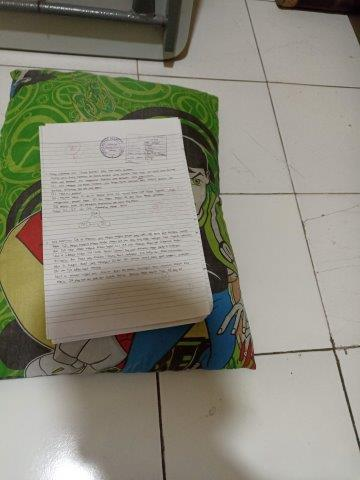kertas: (38, 117, 213, 346)
